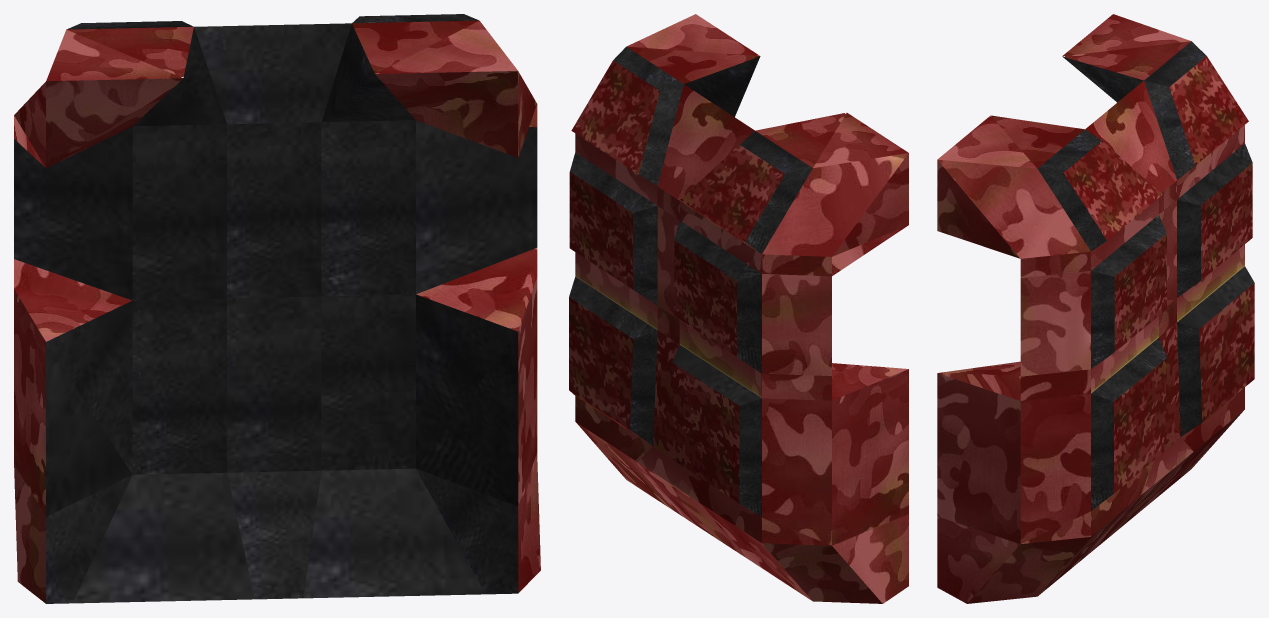
The model's file is Armour300.fbx.
3 renders of one model, left to right at view 1: azimuth 30°, elevation 25°; view 2: azimuth 150°, elevation 25°; view 3: azimuth 270°, elevation 25°, orthographic. The views are drawn at different scales.
Parts seen in each view (by area): view 1: Armour100; view 2: Armour100; view 3: Armour100.
Boxes of the visible parts, x1,y1,x2,y2 form: Armour100: (14,14,540,603); Armour100: (569,14,908,603); Armour100: (937,14,1254,603).
Bounding box in the file's own units: 1.74 × 2 × 1.34.
